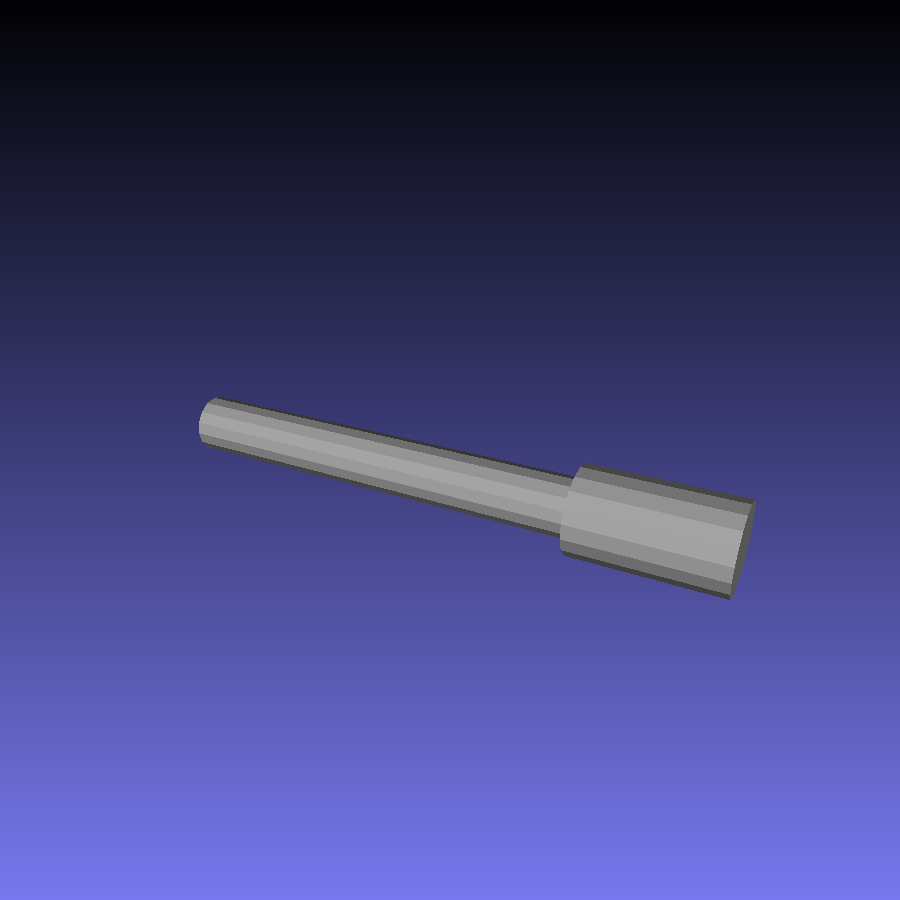cargo_g: (199, 398, 756, 598)
